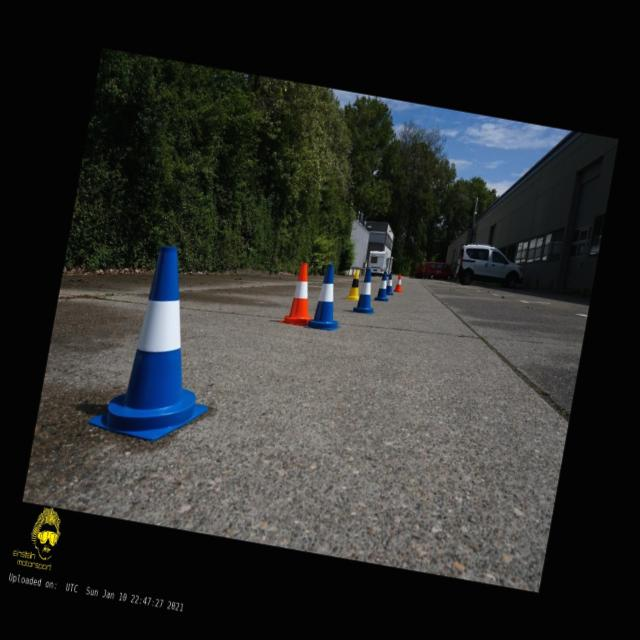blue_cone: (88, 238, 235, 450), (303, 262, 350, 333), (351, 267, 380, 315), (374, 270, 393, 302), (385, 272, 397, 296)
orange_cone: (279, 260, 321, 327), (392, 272, 404, 292)
yellow_cone: (344, 268, 364, 300)
